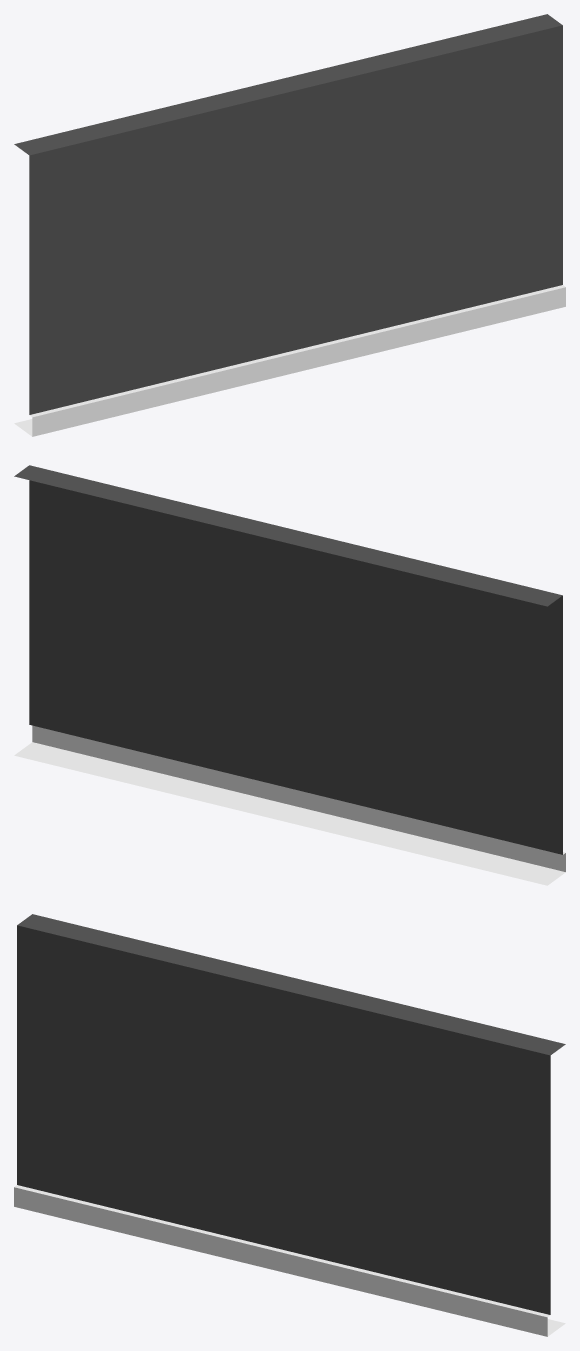
Rendered from Int-V2HalfWallGray.fbx.
3 views of the same model, one above another, from view 1: azimuth 30°, elevation 25°; view 2: azimuth 150°, elevation 25°; view 3: azimuth 330°, elevation 25° (orthographic).
Visible parts, largest first — view 1: Int-V2HalfWallGray; view 2: Int-V2HalfWallGray; view 3: Int-V2HalfWallGray.
Boxes of the visible parts, left/top/right/bottom form: Int-V2HalfWallGray: left=14, top=14, right=565, bottom=436; Int-V2HalfWallGray: left=14, top=465, right=565, bottom=885; Int-V2HalfWallGray: left=14, top=914, right=565, bottom=1336.
Size of the model in its own units: 200 by 100 by 12.
